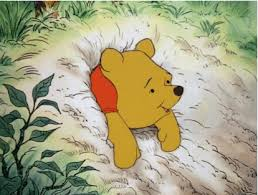Winnie: (93, 40, 187, 136)
